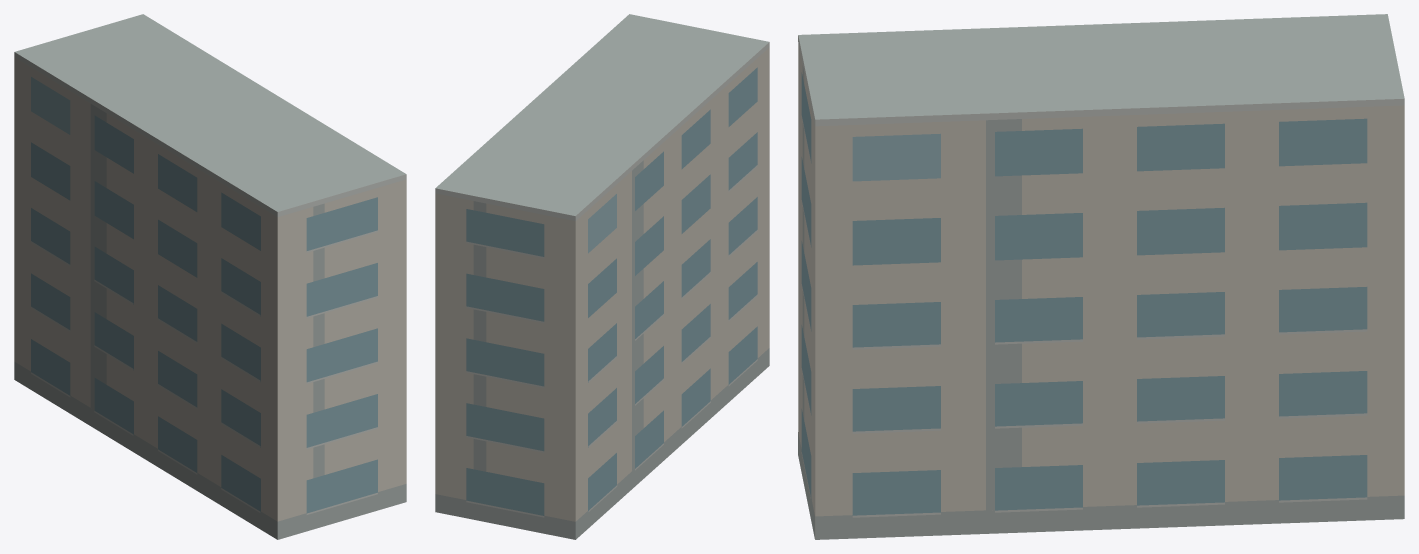
File: survey-upis-32615331.glb
3 renders of one model, left to right at view 1: azimuth 30°, elevation 25°; view 2: azimuth 150°, elevation 25°; view 3: azimuth 270°, elevation 25°, orthographic. The views are drawn at different scales.
Parts seen in each view (by area): view 1: survey-upis-32615331.tmp; view 2: survey-upis-32615331.tmp; view 3: survey-upis-32615331.tmp.
Part boxes in pixels (<box>): survey-upis-32615331.tmp: <box>14,14,406,539</box>; survey-upis-32615331.tmp: <box>435,14,769,539</box>; survey-upis-32615331.tmp: <box>798,14,1404,539</box>.
Bounding box in the file's own units: 8.31 × 15.4 × 20.15.
